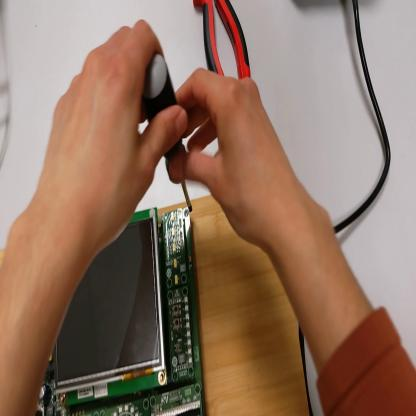hand: (38, 21, 180, 250), (171, 69, 298, 252)
low voltage board: (37, 205, 205, 411)
pliers: (192, 2, 252, 79)
screwdriver-: (141, 55, 192, 211)
working area: (1, 197, 311, 414)
